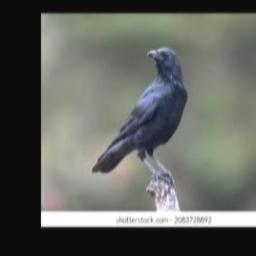Crow: (91, 47, 188, 177)
